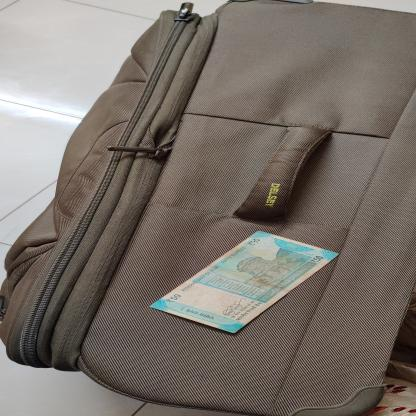New50Back: (146, 231, 341, 336)
